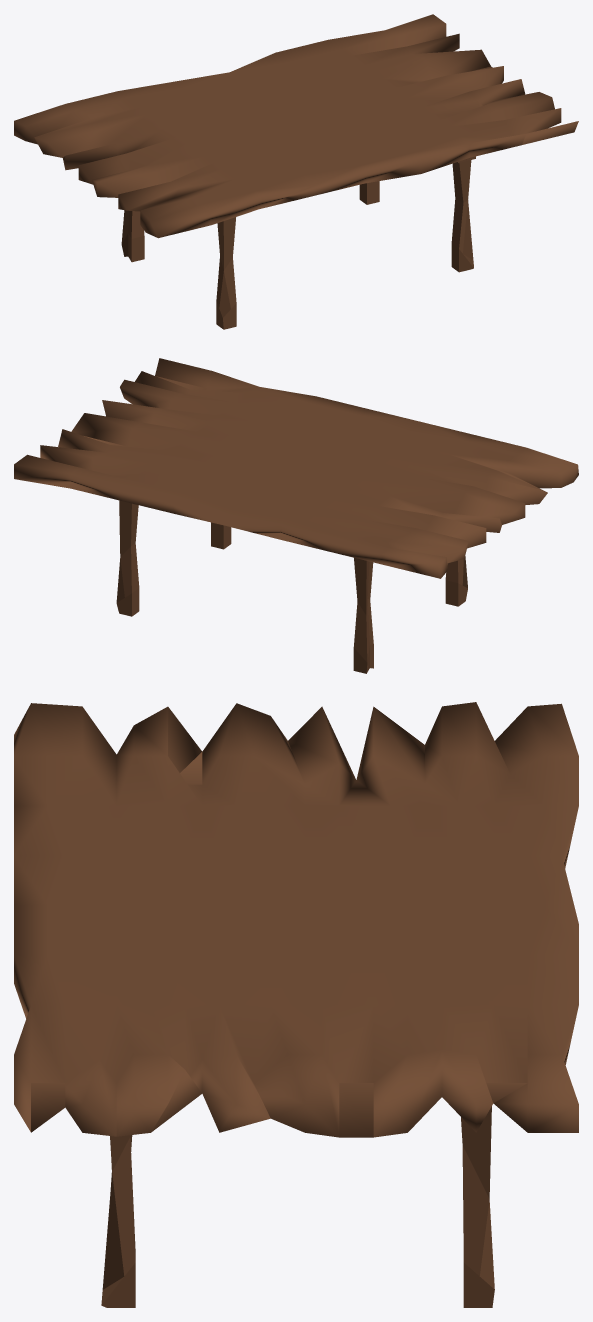
File: Table (1).fbx
3 views of the same model, one above another, from view 1: azimuth 30°, elevation 25°; view 2: azimuth 150°, elevation 25°; view 3: azimuth 270°, elevation 25° (orthographic). The views are drawn at different scales.
Visible parts, largest first — view 1: Top, Leg; view 2: Top, Leg; view 3: Top, Leg.
Boxes of the visible parts, <box> form: Top: <box>14,14,578,238</box>; Leg: <box>121,156,475,329</box>; Top: <box>14,358,578,578</box>; Leg: <box>116,500,467,673</box>; Top: <box>14,702,578,1137</box>; Leg: <box>101,1106,494,1307</box>.
Bounding box in the file's own units: 604 × 195 × 354.
